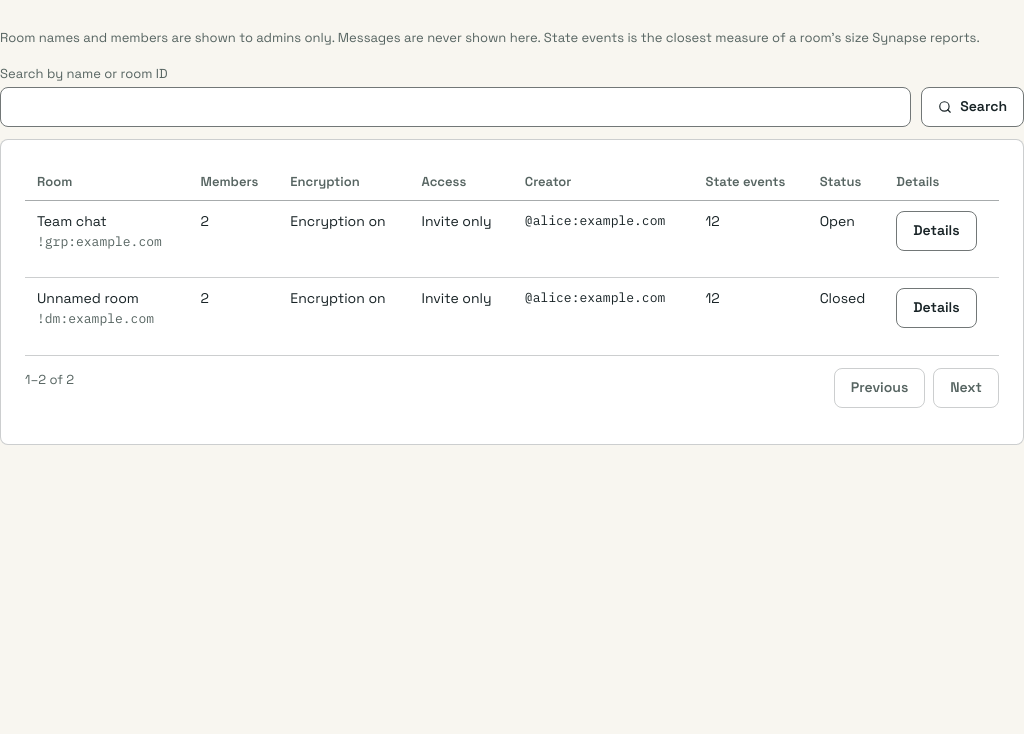
Scenario: Rooms › shows the server refusing a delete
The width and height of the screenshot is (1024, 734).
Click the button with aria-label "Details for Team chat". click: (936, 230)
box: [896,210,977,250]
(page scrolled)
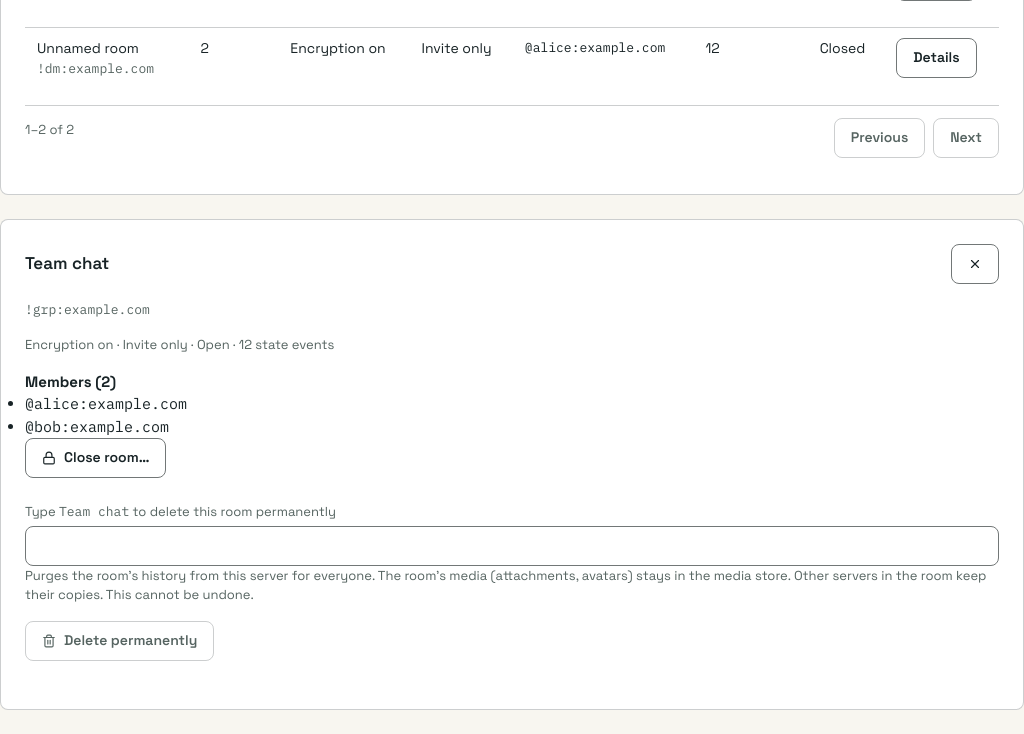
Result: the list named "Members" is shown at [25,394,187,436]
Type "Team chat" into the field labelled "Type Team chat to delete this room permanently". click: (512, 546)
box: [25,526,999,566]
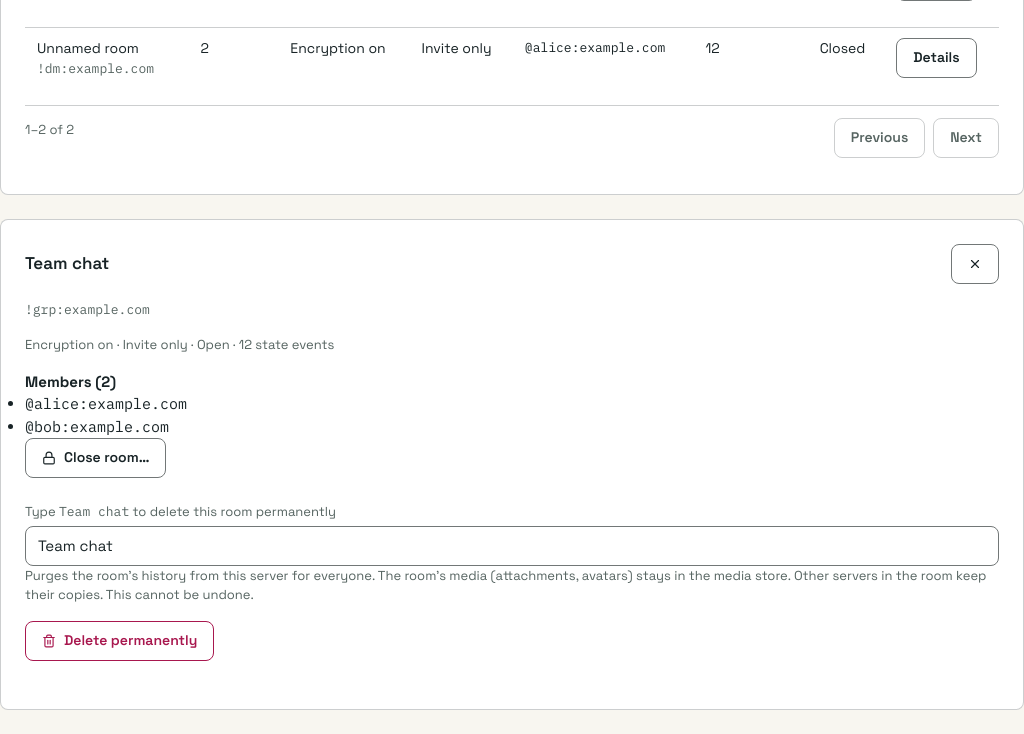
Click the button "Delete permanently". click: (120, 640)
box: [25,620,214,660]
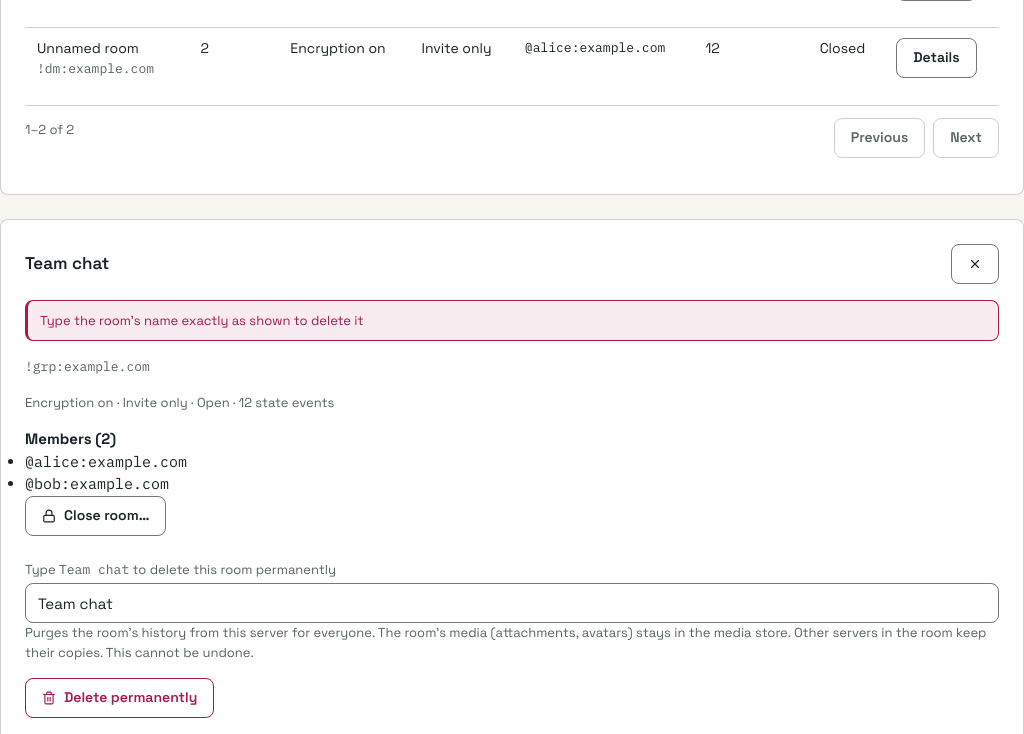
Result: the message shows "exactly as shown" at [40,312,364,328]
